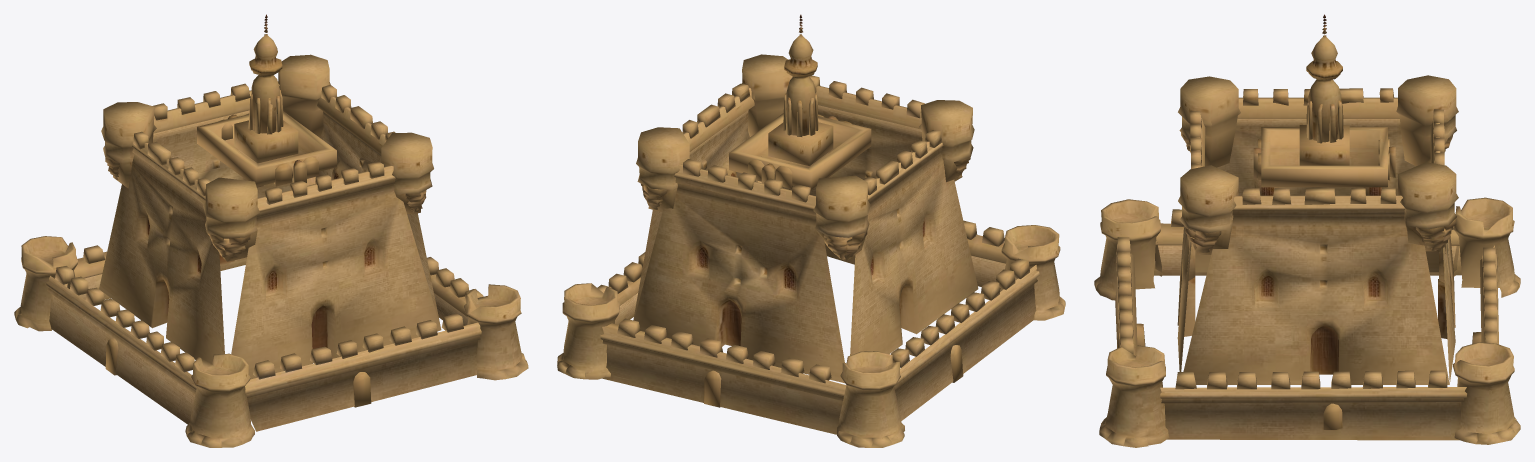
The model's file is qaitbay_citadel.glb.
3 renders of one model, left to right at view 1: azimuth 30°, elevation 25°; view 2: azimuth 150°, elevation 25°; view 3: azimuth 270°, elevation 25°, orthographic. The views are drawn at different scales.
Visible parts, largest first — view 1: tripo_node_e3402cc7-cc64-4dc2-8c71-a5d97a70f8e4; view 2: tripo_node_e3402cc7-cc64-4dc2-8c71-a5d97a70f8e4; view 3: tripo_node_e3402cc7-cc64-4dc2-8c71-a5d97a70f8e4.
Part boxes in pixels (left/top/right/bottom): tripo_node_e3402cc7-cc64-4dc2-8c71-a5d97a70f8e4: left=14, top=14, right=528, bottom=447; tripo_node_e3402cc7-cc64-4dc2-8c71-a5d97a70f8e4: left=557, top=14, right=1065, bottom=447; tripo_node_e3402cc7-cc64-4dc2-8c71-a5d97a70f8e4: left=1094, top=14, right=1520, bottom=447.
Bounding box in the file's own units: 0.998 × 0.9043 × 0.998.
1 material, 1 textured.
